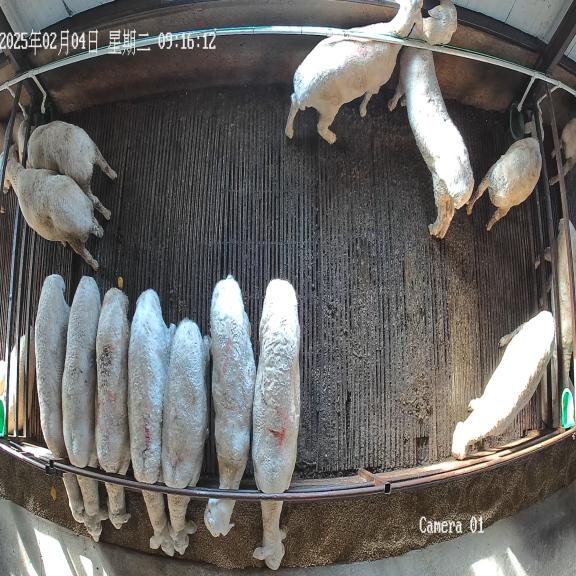drinking: (467, 98, 544, 230), (16, 121, 117, 219)
eating: (203, 275, 256, 538), (252, 279, 300, 568), (128, 289, 176, 556), (35, 274, 85, 523), (162, 318, 209, 554), (62, 276, 103, 539), (95, 288, 130, 528)
stand: (388, 0, 474, 238), (285, 0, 423, 143), (451, 311, 555, 459), (5, 145, 103, 270)
